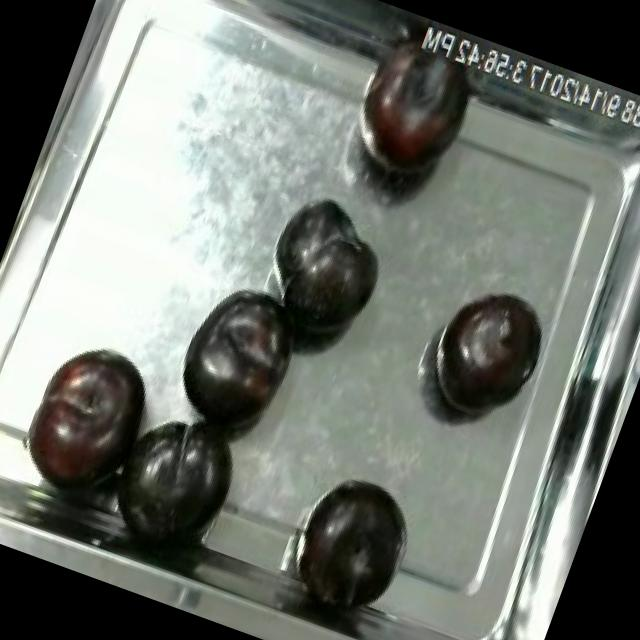Fruit: (0, 322, 172, 516), (334, 8, 496, 198), (157, 266, 320, 454), (276, 456, 431, 626), (255, 182, 406, 354), (416, 270, 562, 436)
